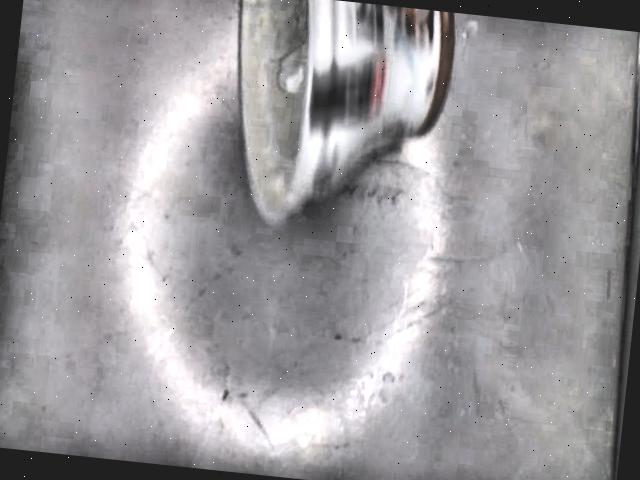Plastic: (236, 0, 458, 228)
